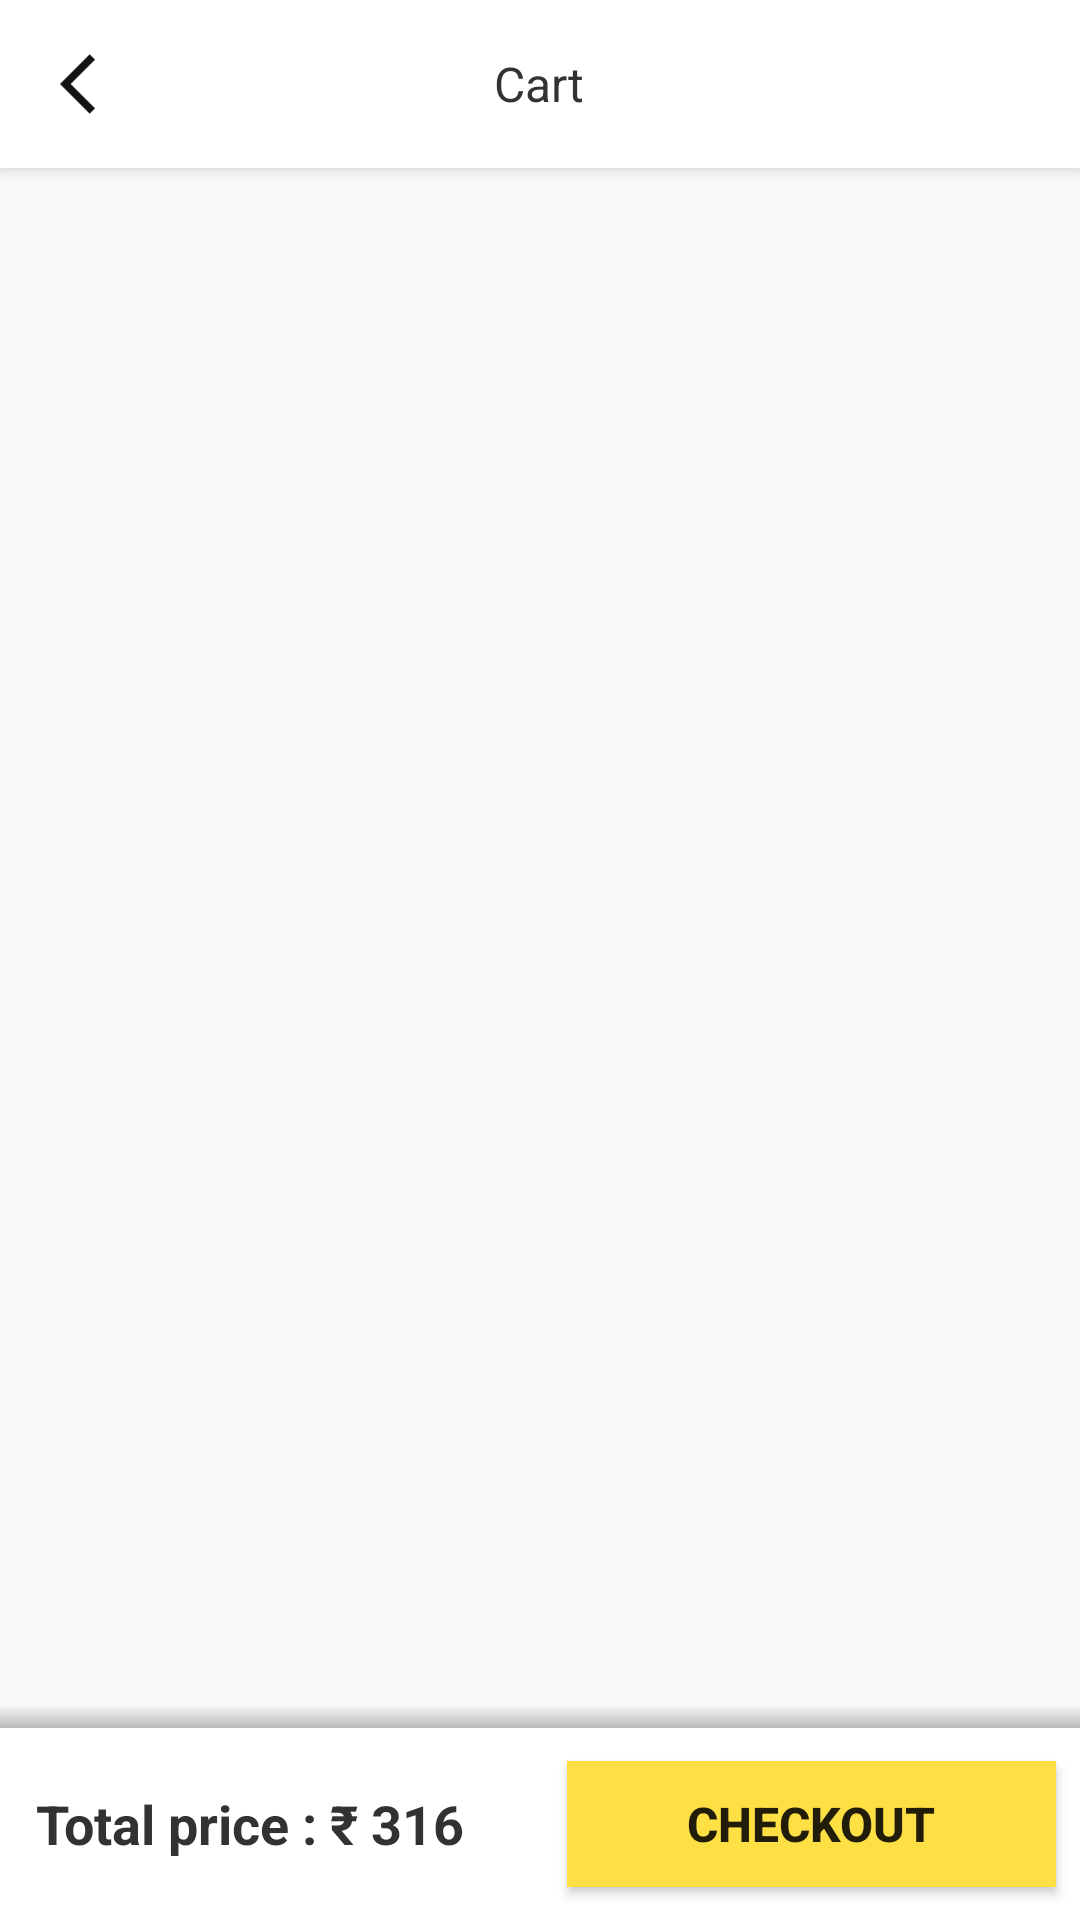

Point at icon controls on the screen. Image size 1080 x 1920, points as (x=x, y=y).
back: (x=77, y=84)
